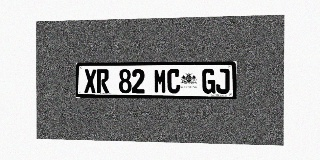2: (132, 69, 144, 93)
8: (119, 69, 131, 93)
C: (167, 69, 180, 93)
G: (202, 69, 215, 94)
J: (216, 69, 229, 94)
M: (154, 69, 167, 93)
R: (97, 69, 109, 93)
X: (84, 69, 96, 93)
